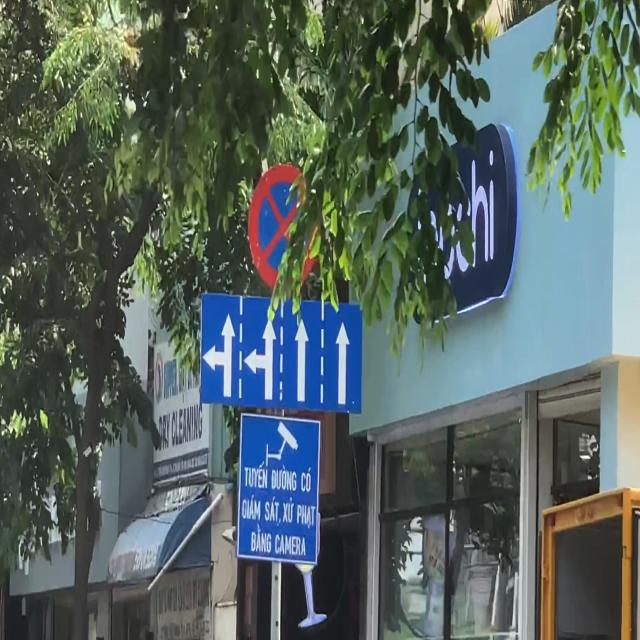Cam dung va do: (248, 164, 320, 292)
